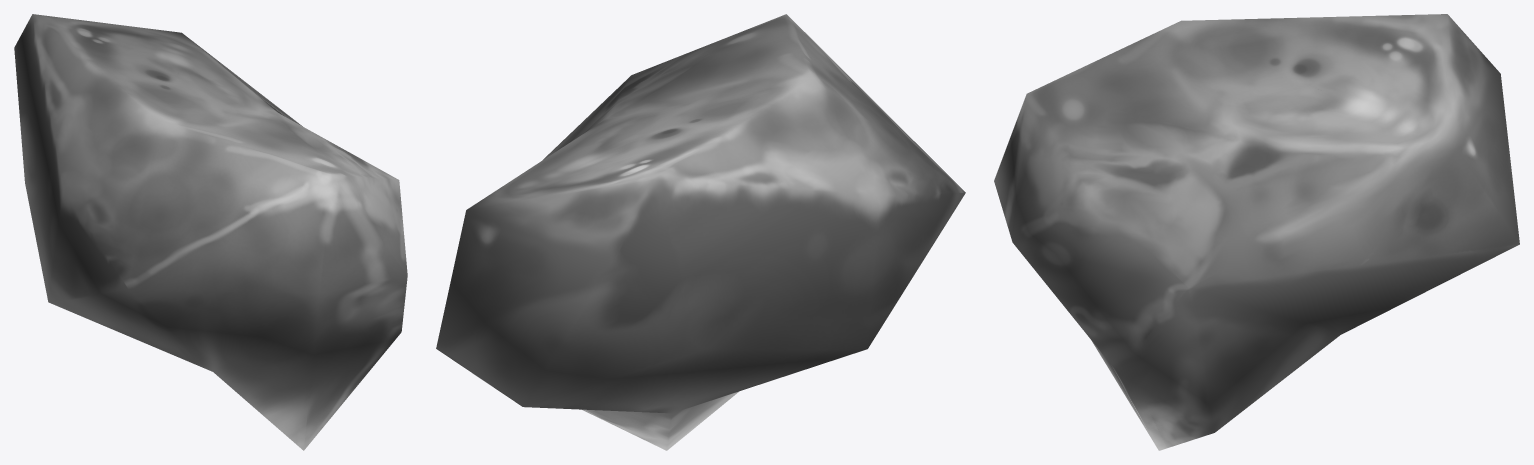
File: RockSmall.fbx
3 views of the same model, side by side, from view 1: azimuth 30°, elevation 25°; view 2: azimuth 150°, elevation 25°; view 3: azimuth 270°, elevation 25° (orthographic). The views are drawn at different scales.
Parts seen in each view (by area): view 1: RockSmall.001; view 2: RockSmall.001; view 3: RockSmall.001.
Boxes of the visible parts, x1,y1,x2,y2 form: RockSmall.001: [14, 14, 407, 450]; RockSmall.001: [436, 14, 965, 450]; RockSmall.001: [994, 14, 1519, 450].
Size of the model in its own units: 75.11 by 80.93 by 104.
Materials: 1 (1 with a texture image).
